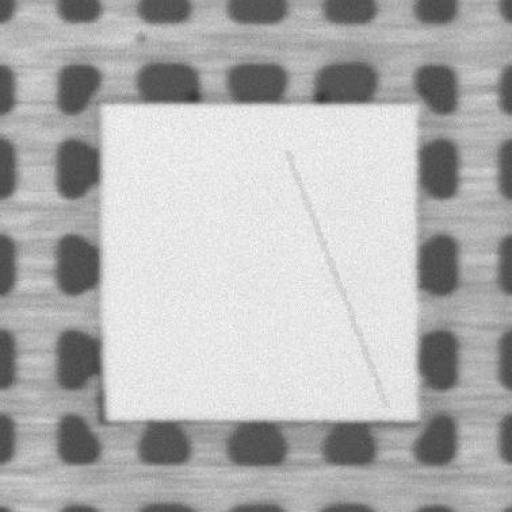DIE_CRACK: (285, 150, 384, 404)
